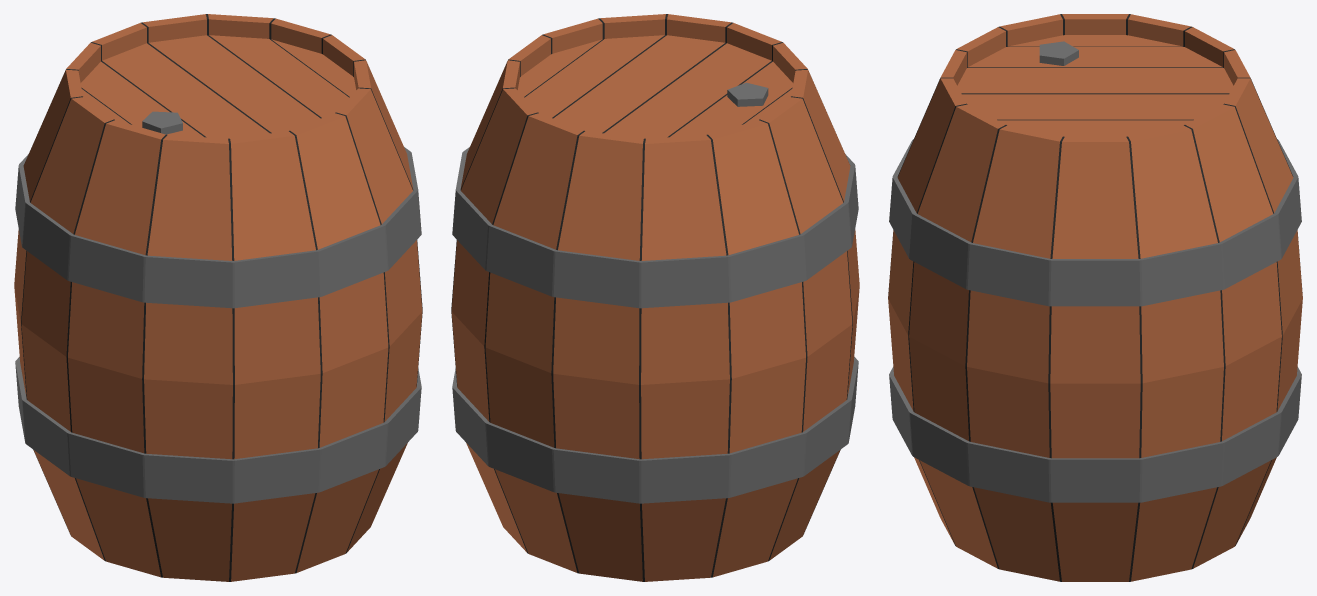
Rendered from Barrel.fbx.
3 views of the same model, side by side, from view 1: azimuth 30°, elevation 25°; view 2: azimuth 150°, elevation 25°; view 3: azimuth 270°, elevation 25° (orthographic).
Visible parts, largest first — view 1: Barrel; view 2: Barrel; view 3: Barrel.
Boxes of the visible parts, x1,y1,x2,y2 form: Barrel: [14, 14, 422, 581]; Barrel: [451, 14, 859, 581]; Barrel: [888, 14, 1302, 581].
Bounding box in the file's own units: 228 × 274 × 234.
